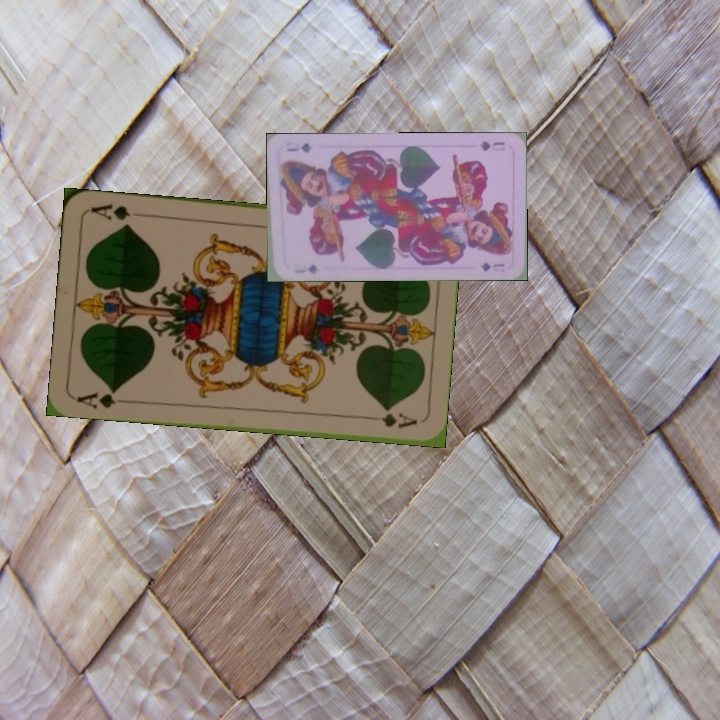GA: (73, 385, 131, 411)
GU: (475, 137, 507, 154), (290, 260, 321, 277)
